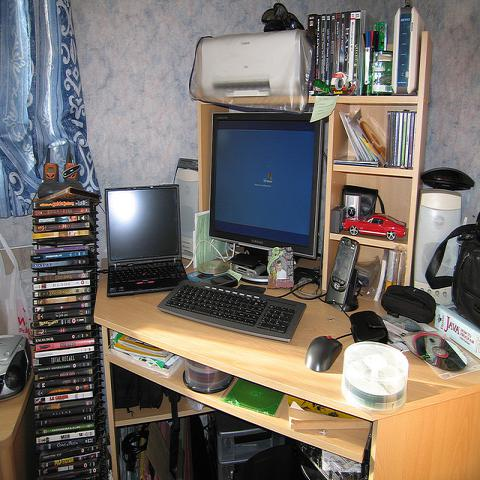car: (343, 213, 407, 241)
